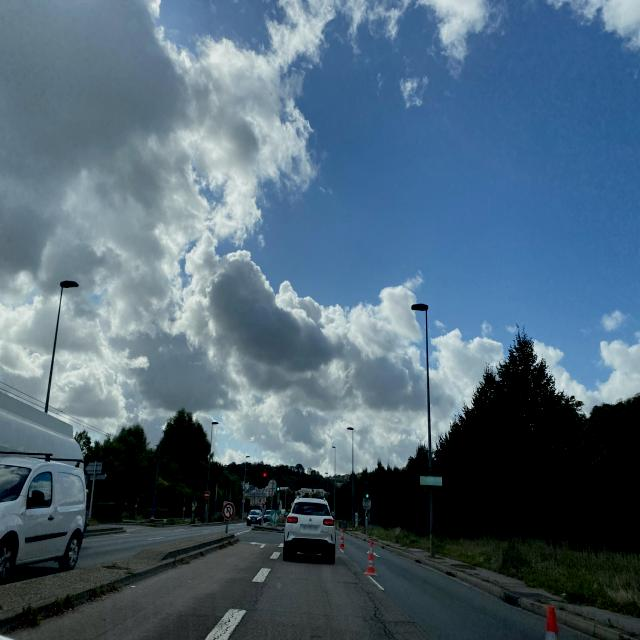car: (0, 451, 90, 587), (283, 496, 336, 564), (246, 509, 263, 526)
